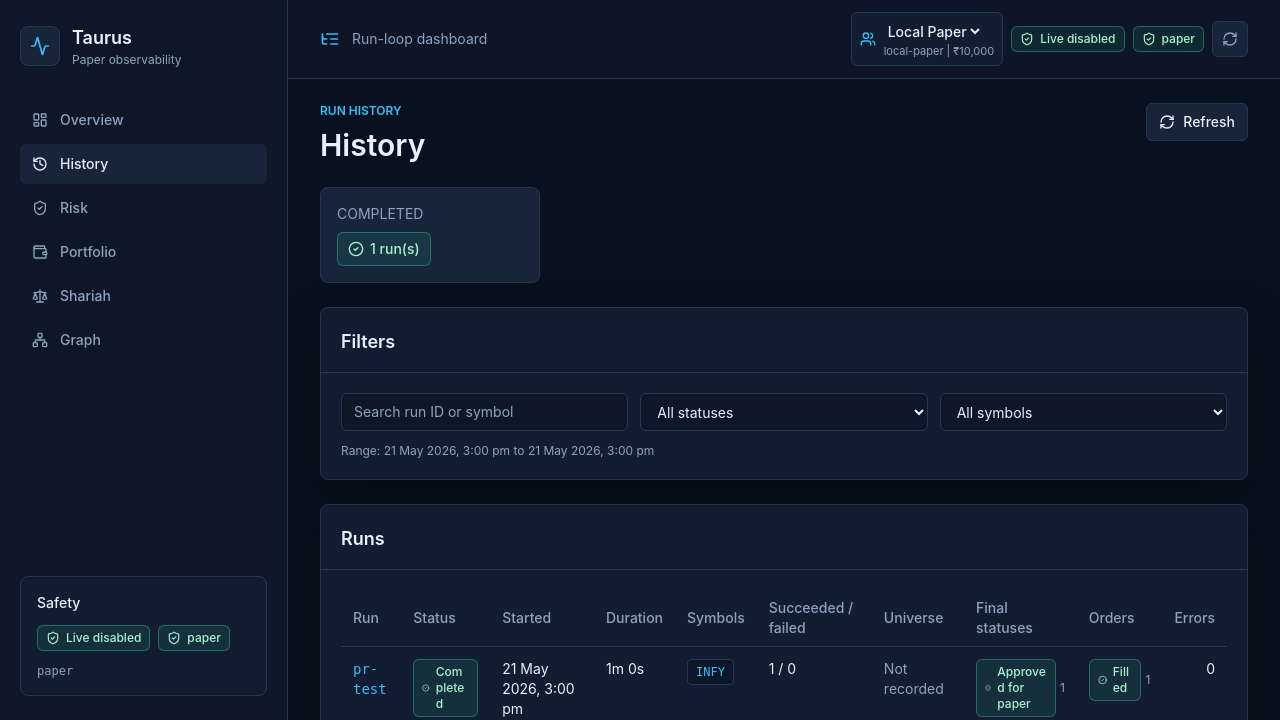
Test: M16.4 screen states › filters history by run text
The width and height of the screenshot is (1280, 720).
Expected: the link "pr-test" is shown, [353,661,387,697]
Type "missing" into the field with placeholder "Search run ID or symbol" at {"x": 485, "y": 412}, box [341,393,628,431]
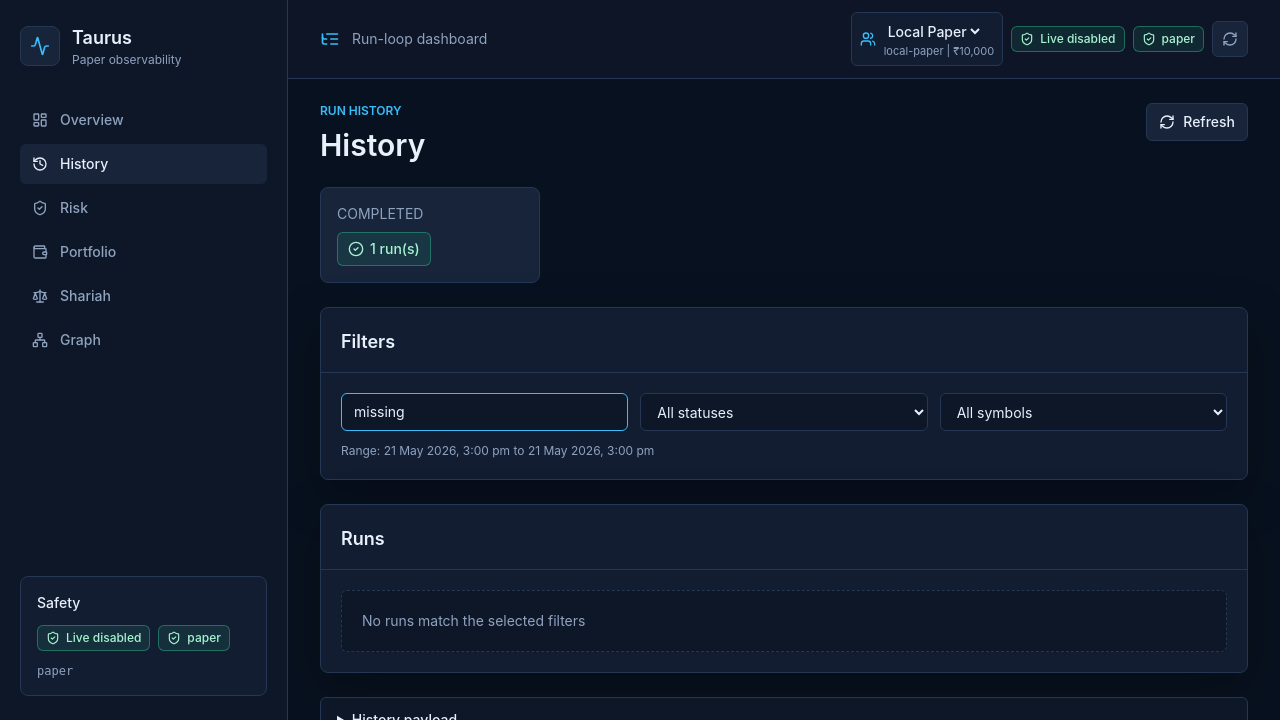
Expected: the text "No runs match the selected filters" is shown, [341,590,1227,652]
